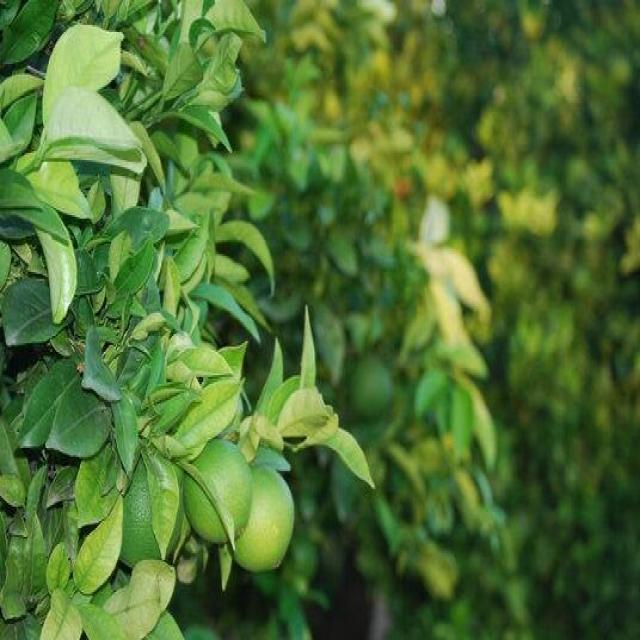Jeruk Belum Matang: (114, 460, 186, 570), (230, 463, 298, 572), (184, 439, 252, 546)
